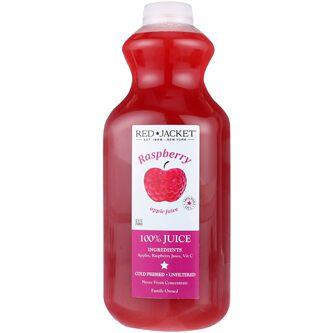juice: (100, 0, 239, 333)
